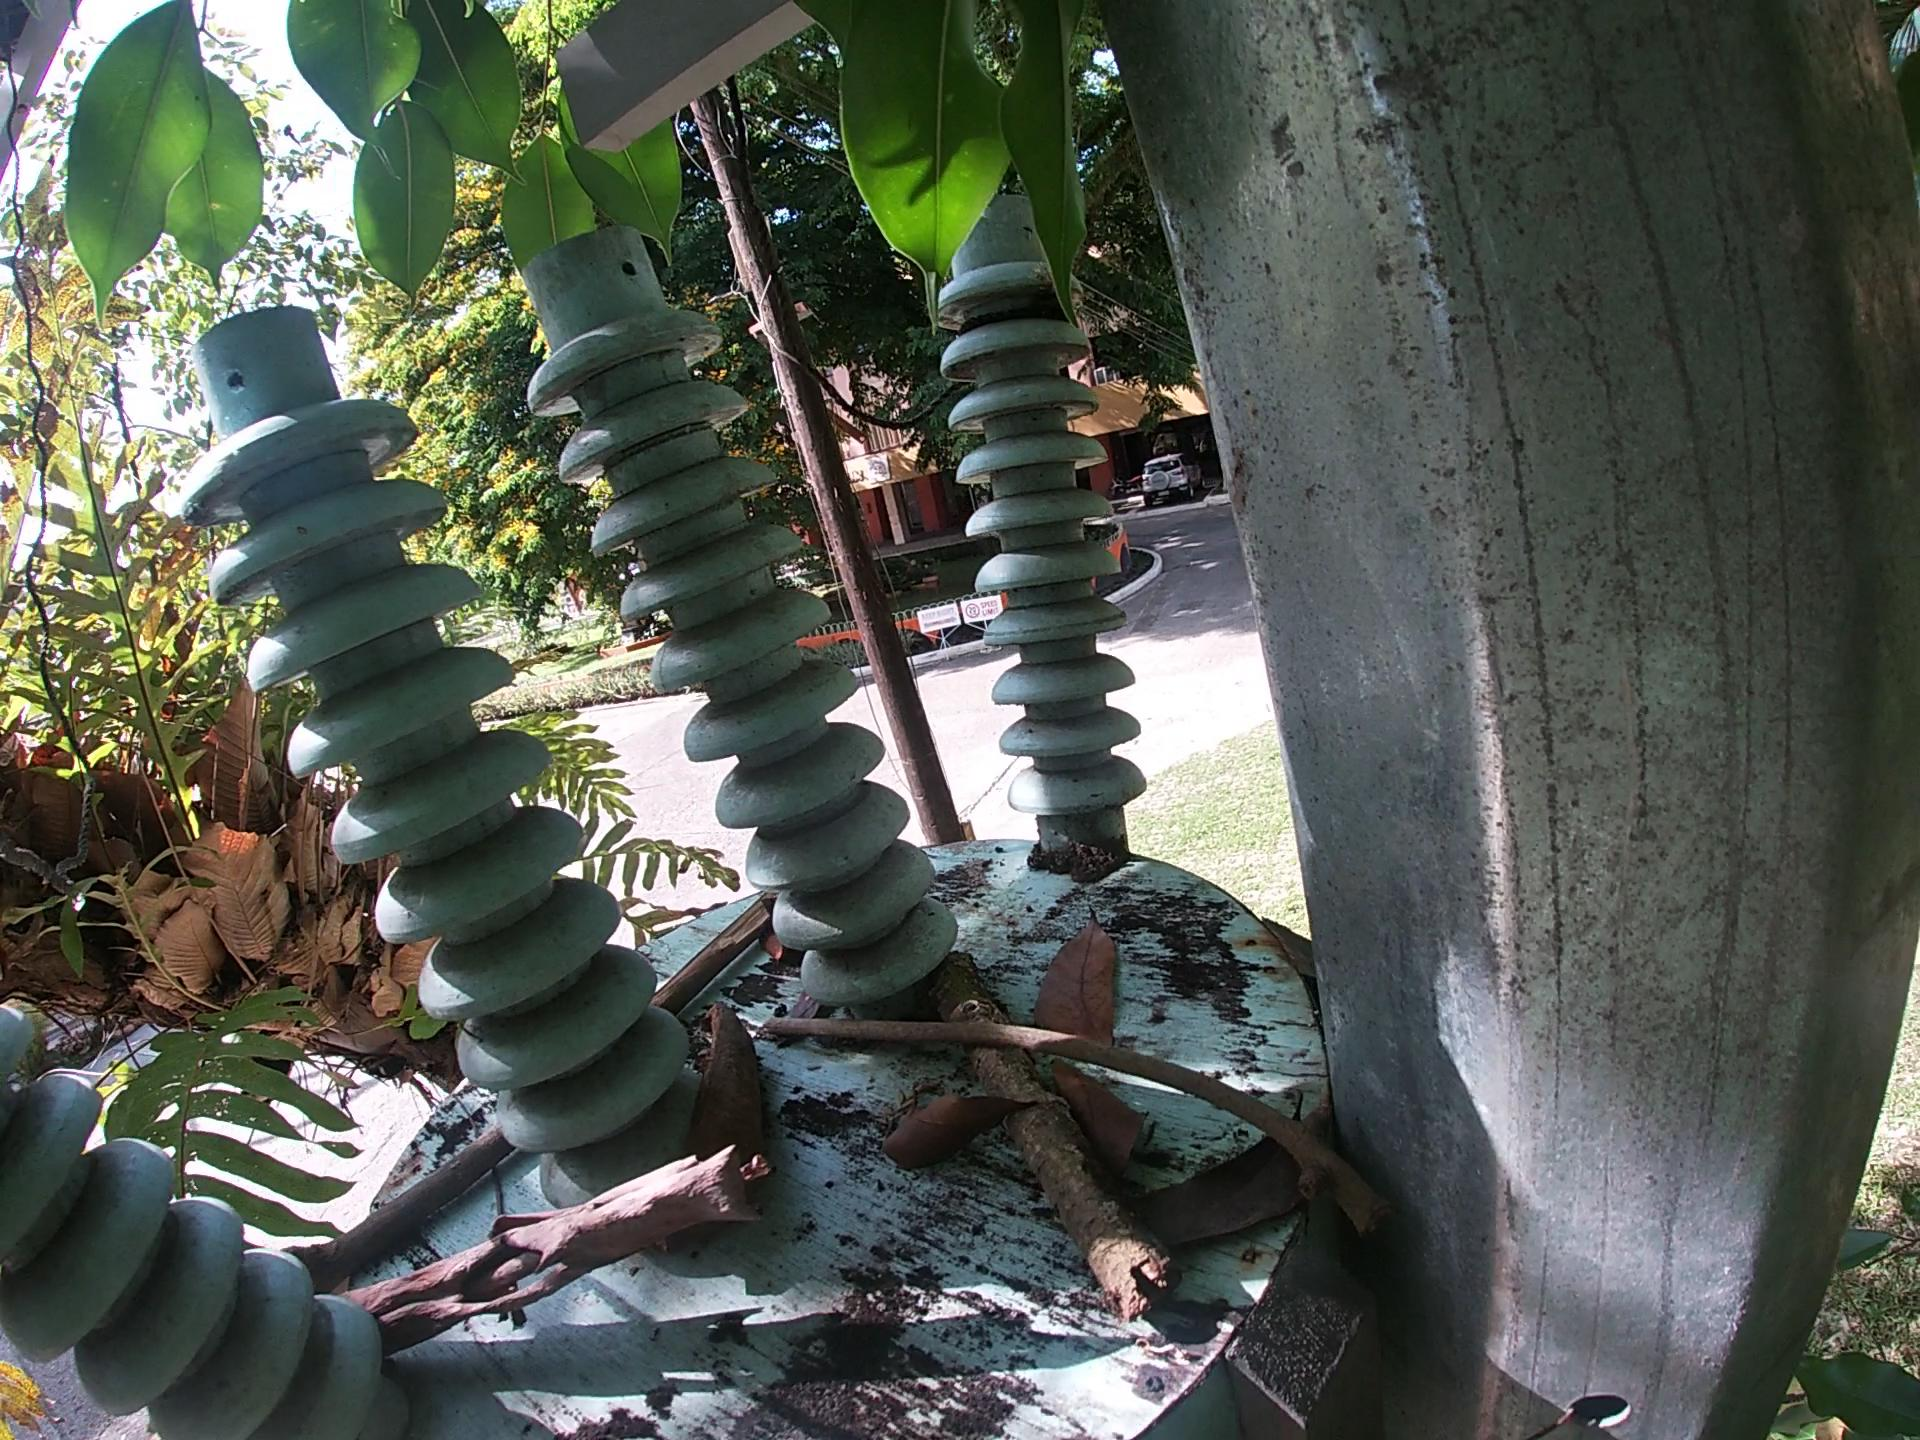leaf: (1123, 1088, 1321, 1265), (877, 1088, 1036, 1187), (1030, 905, 1131, 1051), (1042, 1056, 1150, 1181)
mahogany fruit: (658, 988, 776, 1265)
tree branch: (760, 1001, 1409, 1252), (327, 1137, 780, 1364), (924, 942, 1184, 1333), (275, 1122, 523, 1302), (641, 895, 780, 1023)
